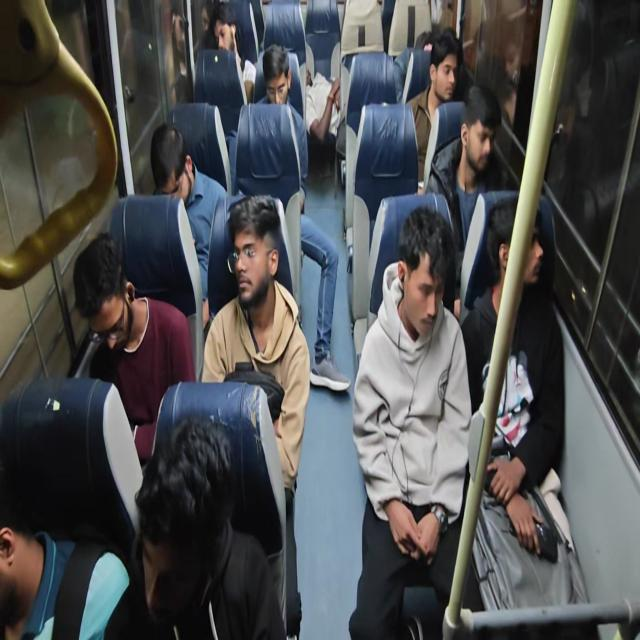person: (134, 391, 254, 640), (35, 211, 171, 410), (224, 173, 320, 371), (0, 455, 85, 640), (402, 213, 486, 352), (489, 182, 554, 310), (293, 37, 349, 170), (444, 63, 506, 169), (147, 120, 196, 200), (256, 48, 300, 113), (424, 35, 463, 101), (201, 12, 240, 69), (411, 27, 446, 63)
